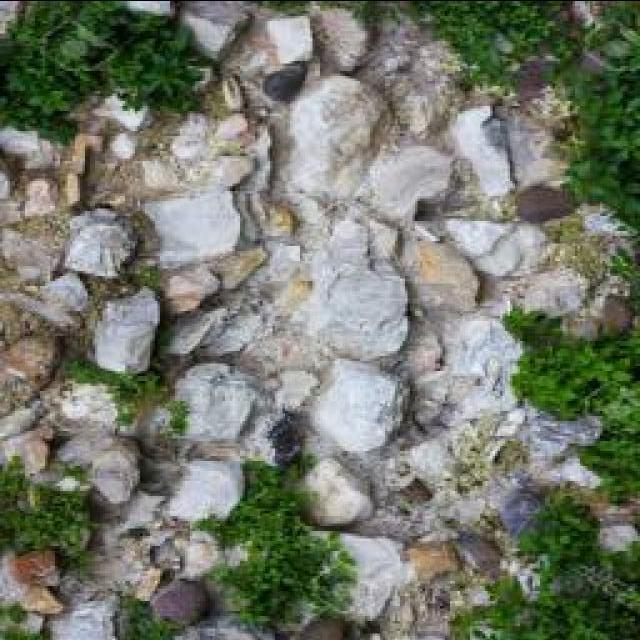Crack: (1, 2, 635, 637)
